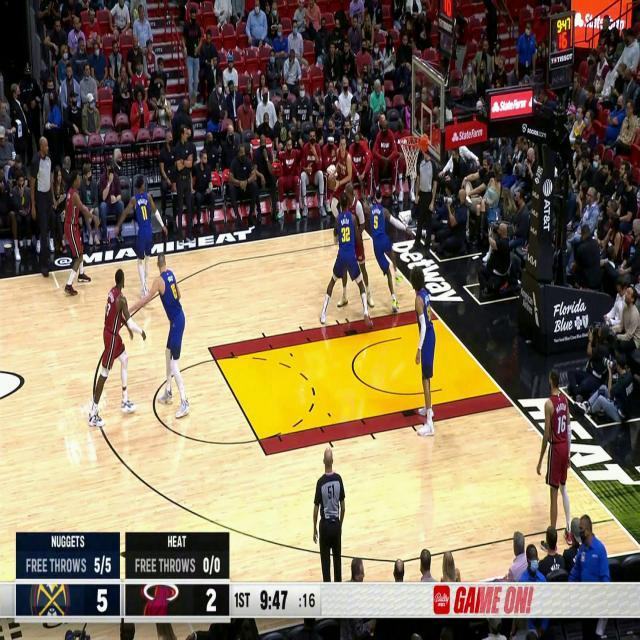rim: (328, 174, 336, 190)
